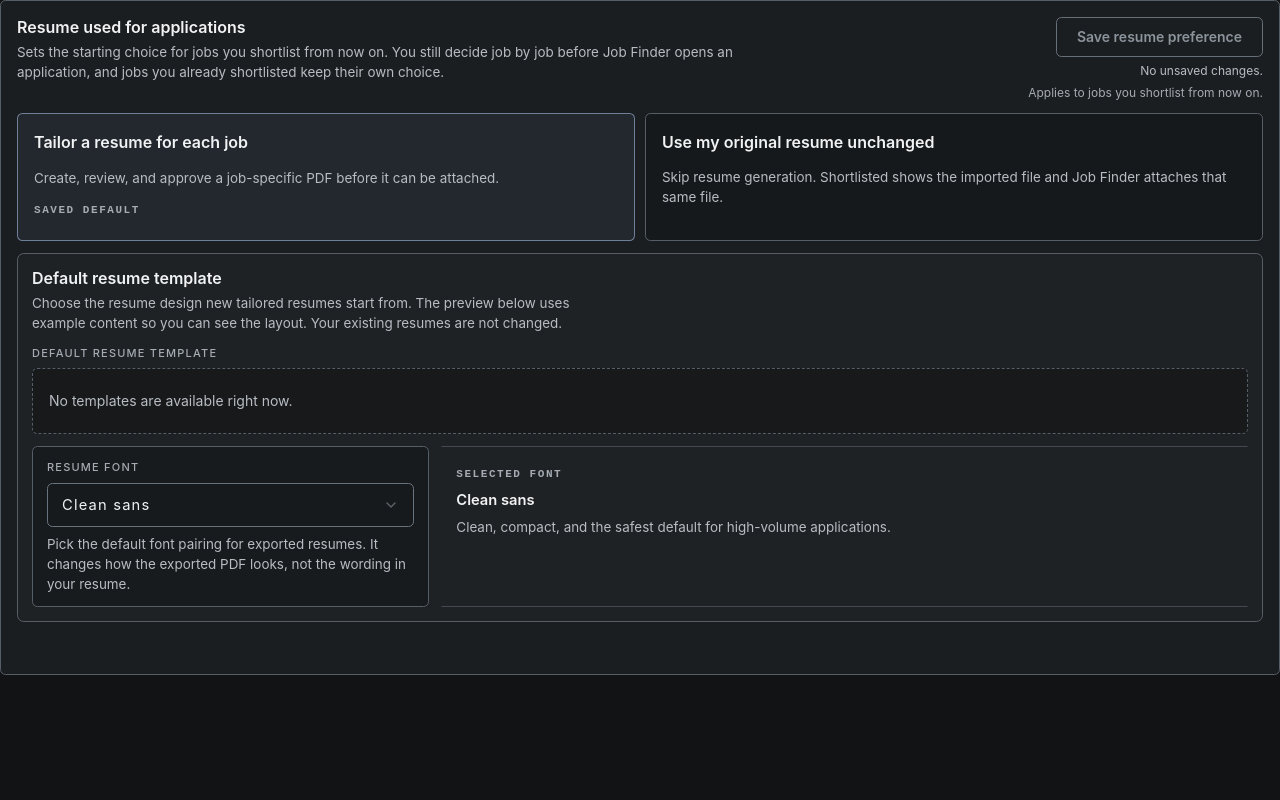
SettingsApplicationDefaultsSection › sends only application-defaults fields and reports saved status
Click the radio button labelled "Use my original resume unchanged". click: (954, 177)
box: left=645, top=113, right=1263, bottom=241
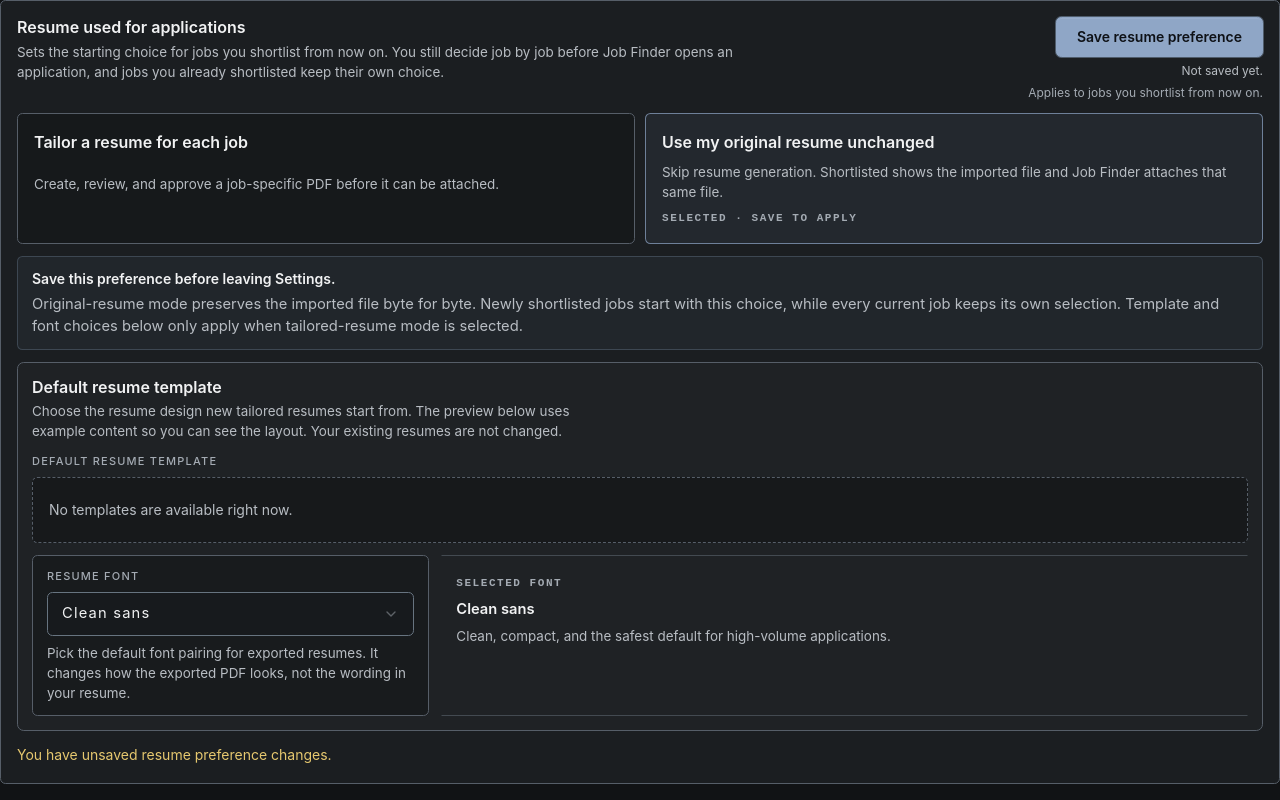
Click the button "Save resume preference". click: (1159, 37)
box: left=1056, top=17, right=1263, bottom=57
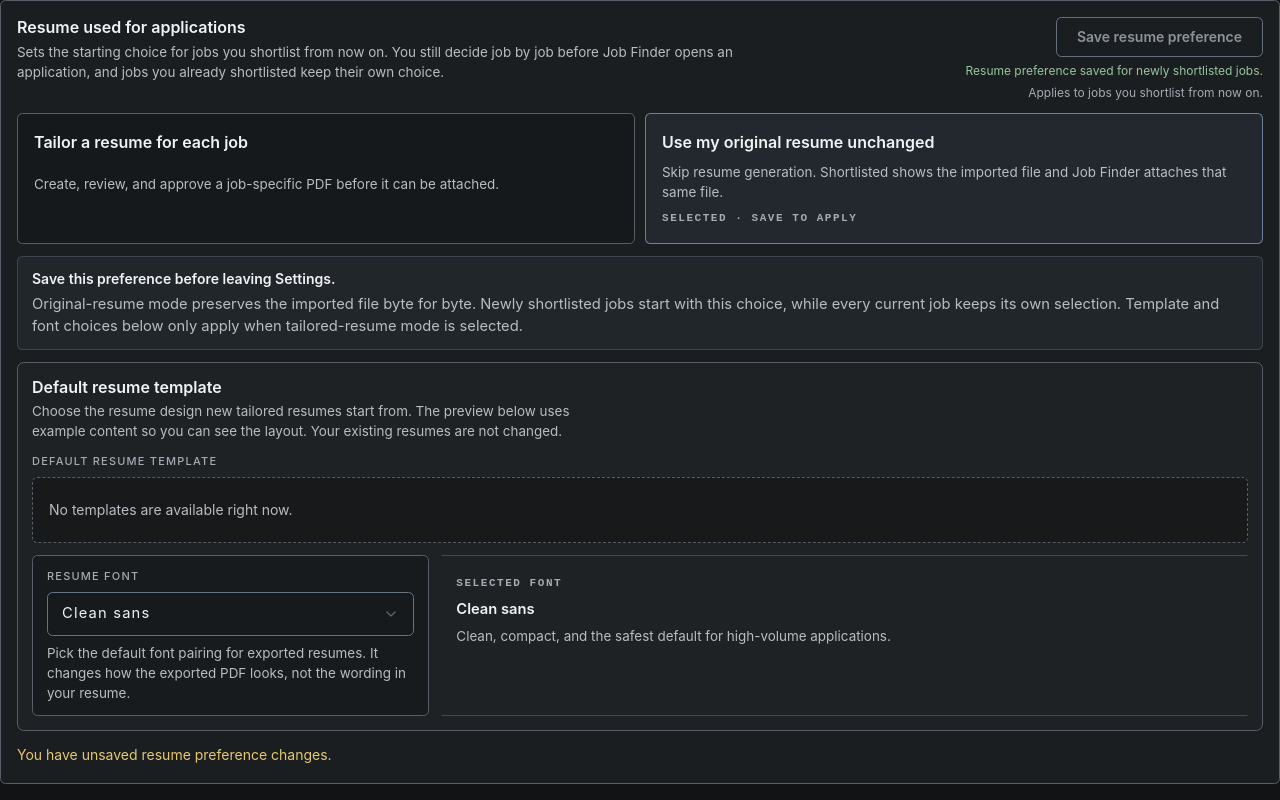
Expected: the text "No unsaved changes." is not shown
Expected: the text "Resume preference saved for newly shortlisted jobs." is shown, left=966, top=63, right=1263, bottom=79
